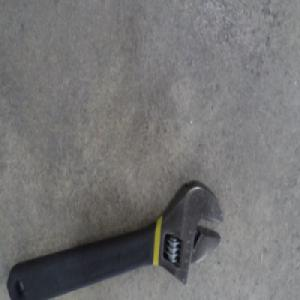AdjustableWrench: (8, 180, 226, 297)
